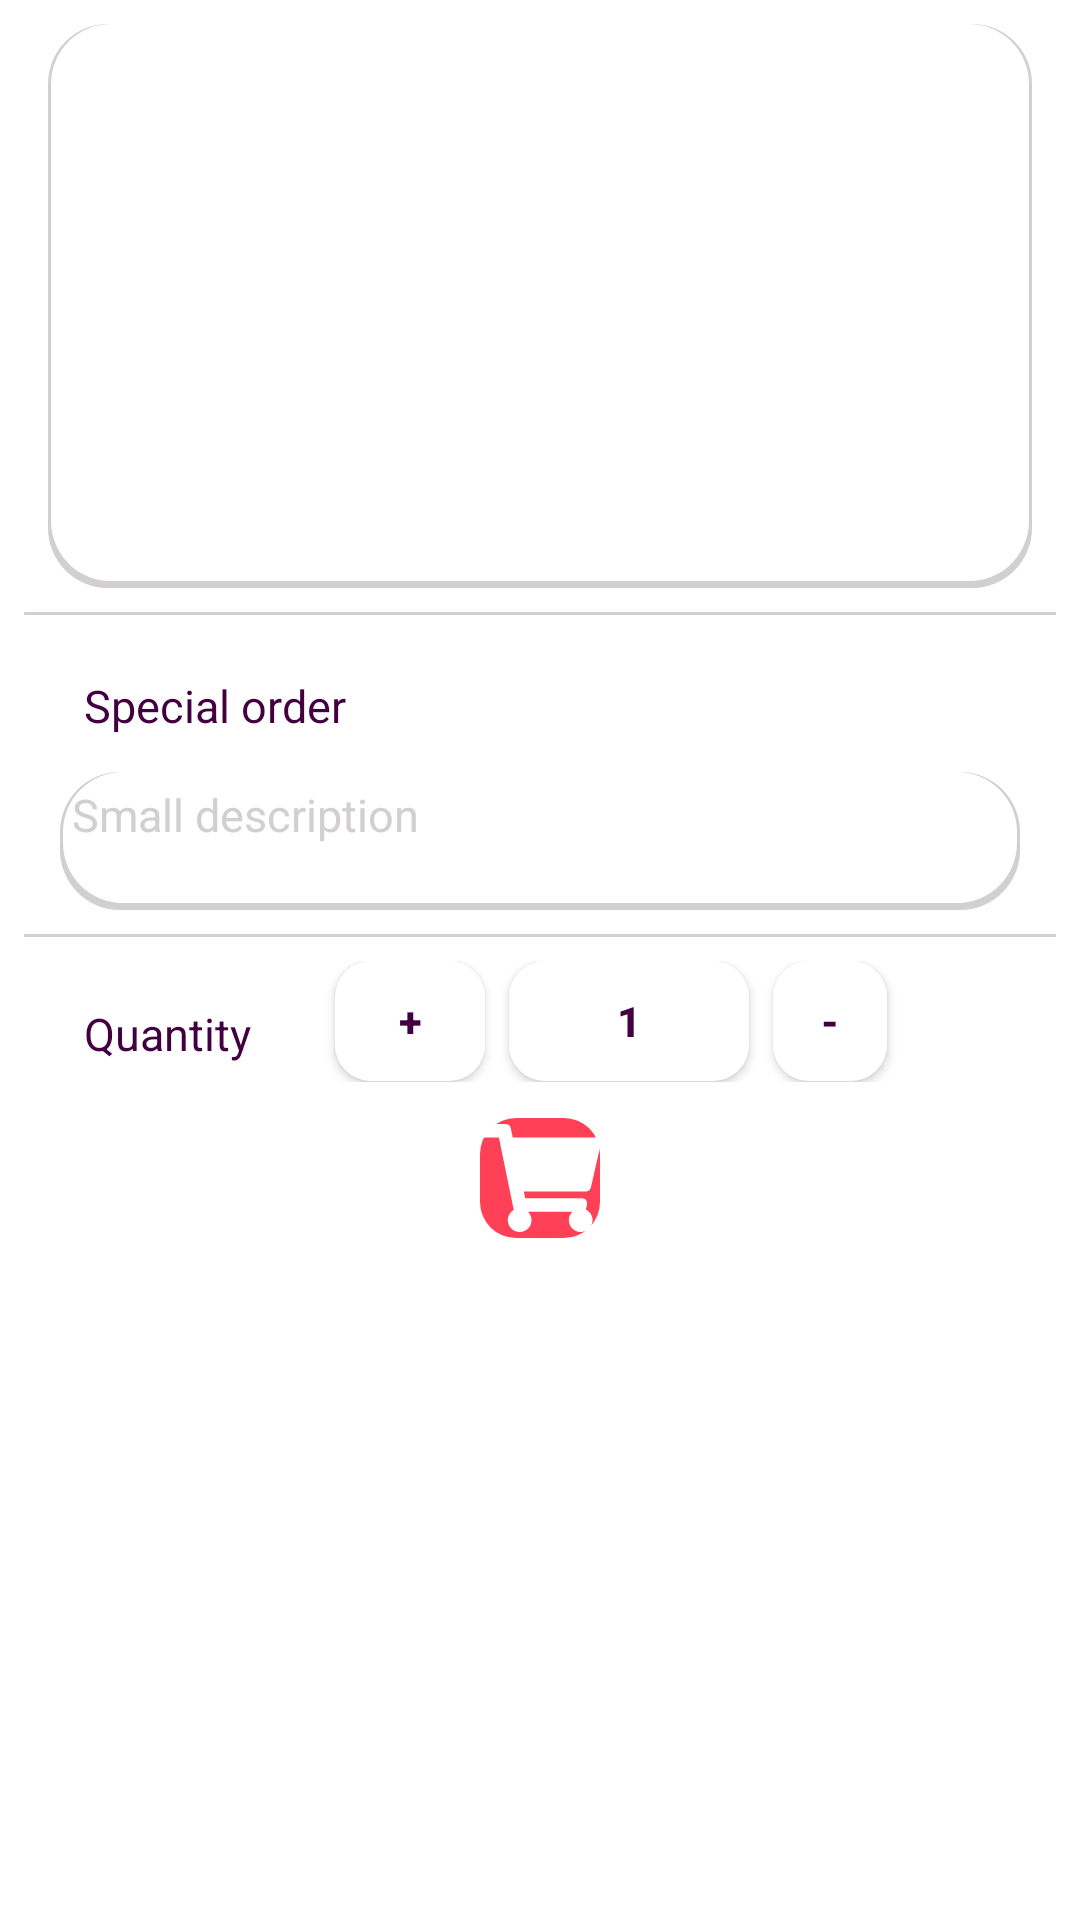

Icon click points for this 1080x1920 phone screenshot, format (x=x, y=y):
shopping cart: (x=540, y=1178)
